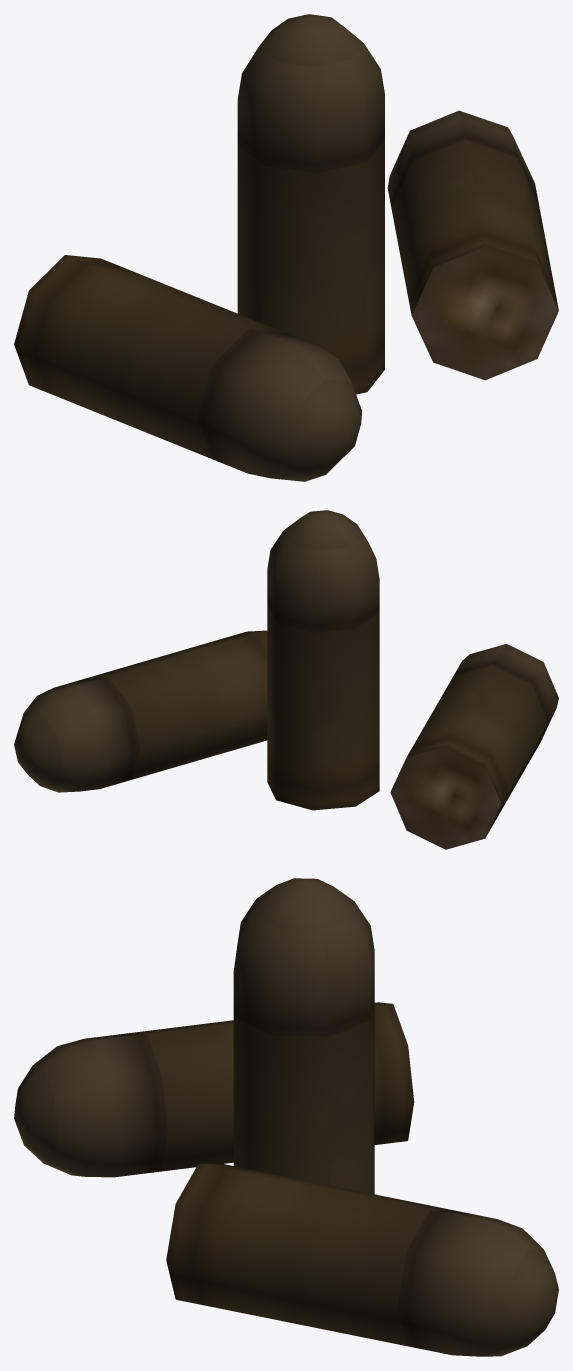
File: ammo_pistol_loose_3pcs_mp_1.obj
The picture shows the model from 3 angles, top to bottom: view 1: azimuth 30°, elevation 25°; view 2: azimuth 150°, elevation 25°; view 3: azimuth 270°, elevation 25°; orthographic projection. The views are drawn at different scales.
Visible parts, largest first — view 1: ammo_pistol_loose_3pcs_mp_1; view 2: ammo_pistol_loose_3pcs_mp_1; view 3: ammo_pistol_loose_3pcs_mp_1.
Boxes of the visible parts, x1,y1,x2,y2 form: ammo_pistol_loose_3pcs_mp_1: [14, 14, 558, 481]; ammo_pistol_loose_3pcs_mp_1: [14, 510, 558, 849]; ammo_pistol_loose_3pcs_mp_1: [14, 878, 558, 1356].
Size of the model in its own units: 1.97 by 1.18 by 1.63.
Materials: 1 (1 with a texture image).
